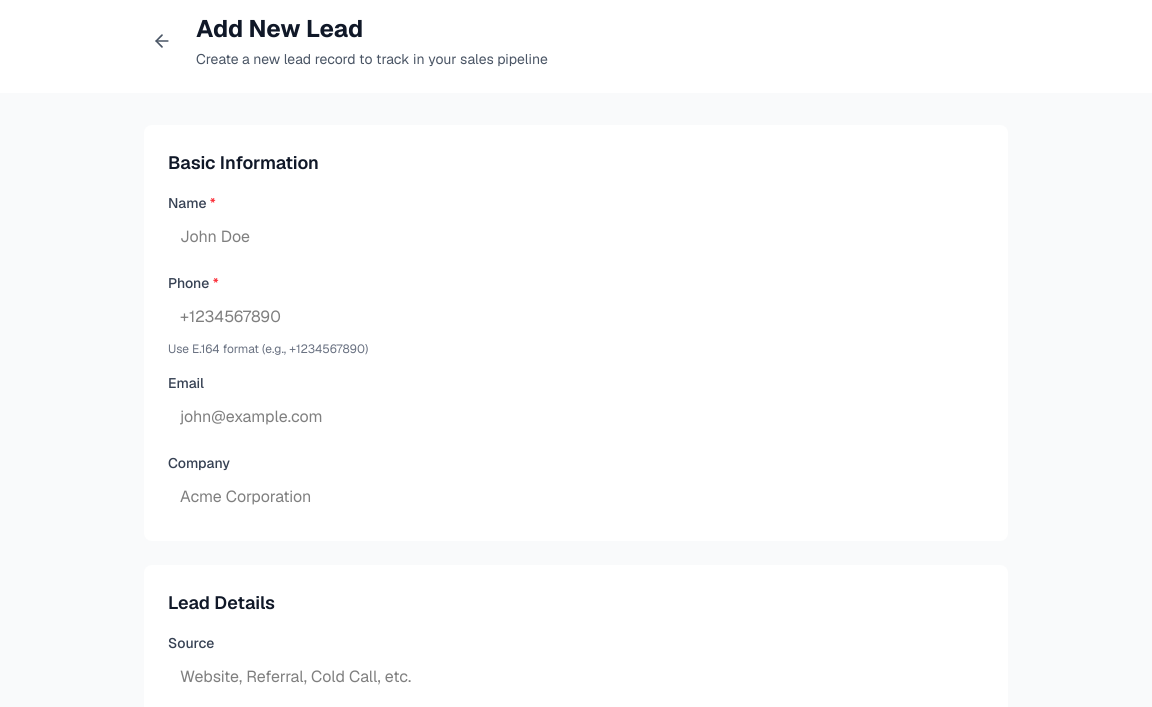
NewLeadPage › Form Validation › should validate email format
Type "invalid-email" into the field labelled "Email" at (576, 417), box [168,397,984,437]
(page scrolled)
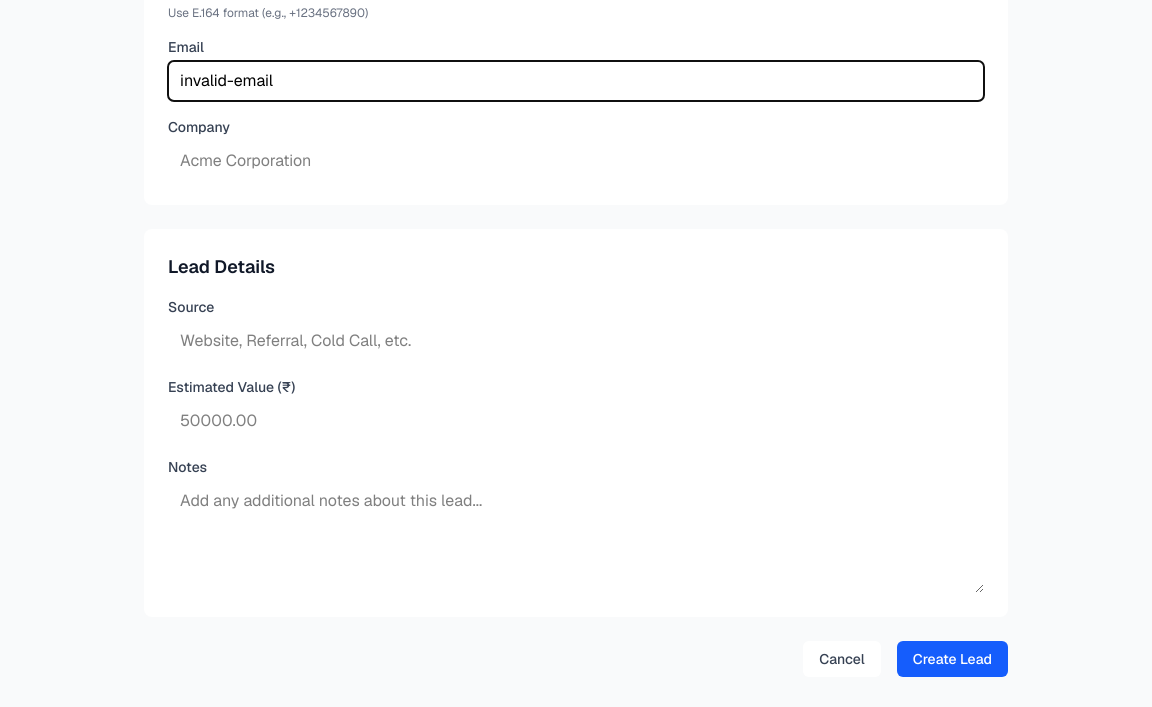
Click the button "Create Lead" at (952, 659), box [897,641,1008,677]
(page scrolled)
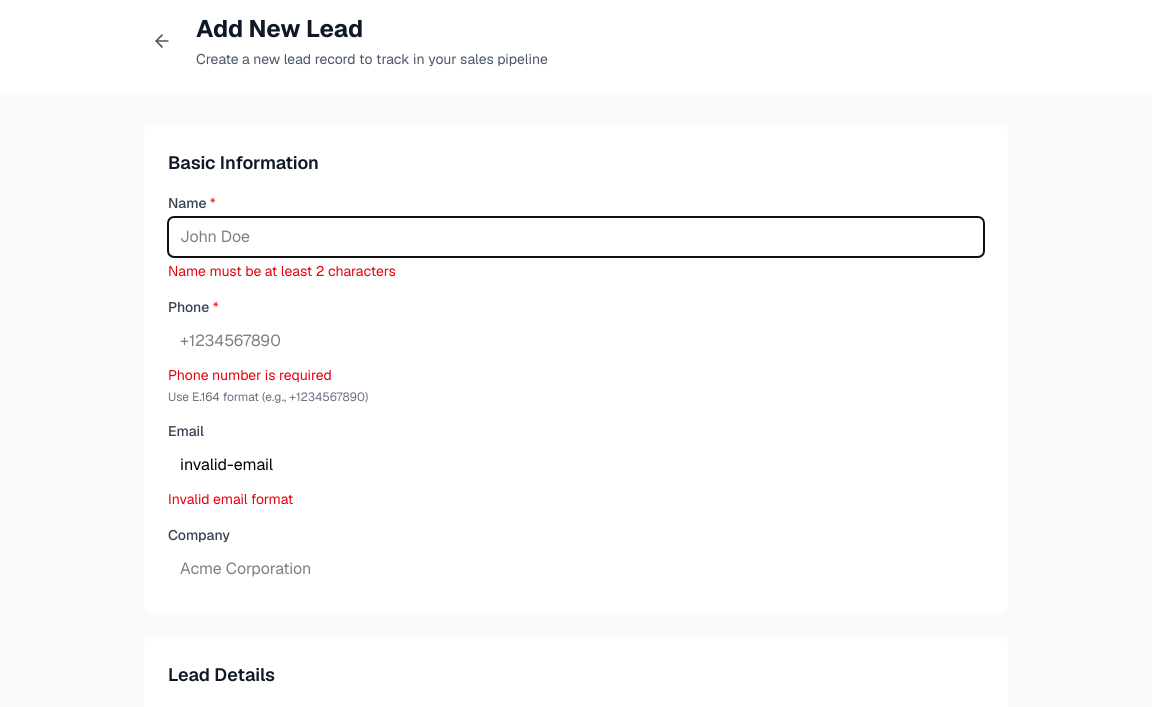
Expected: the text "Invalid email format" is shown, [168,490,293,508]
